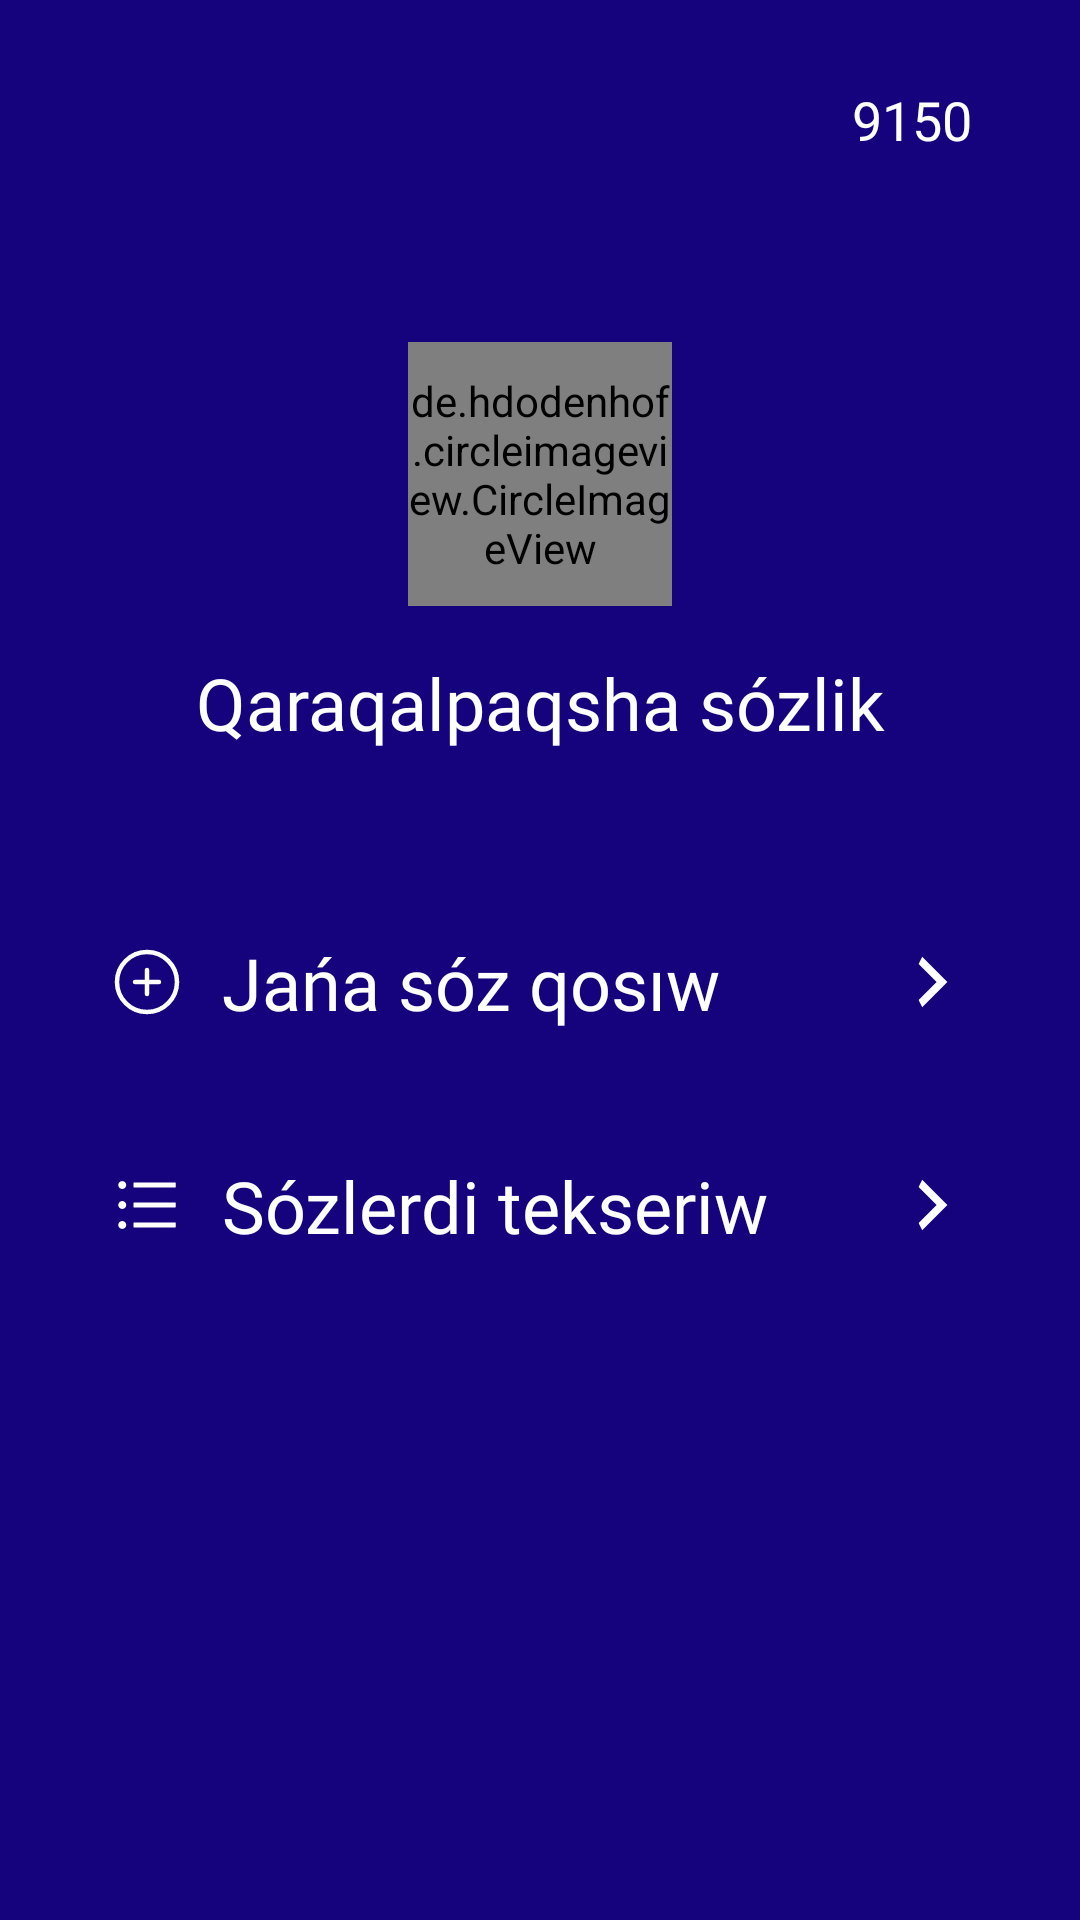

Locate icon controls on the screen. Image size 1080 × 1920, boxes as detection(x1, y1, x2, y2).
add: detection(114, 949, 180, 1015)
all terms: detection(118, 1181, 176, 1229)
